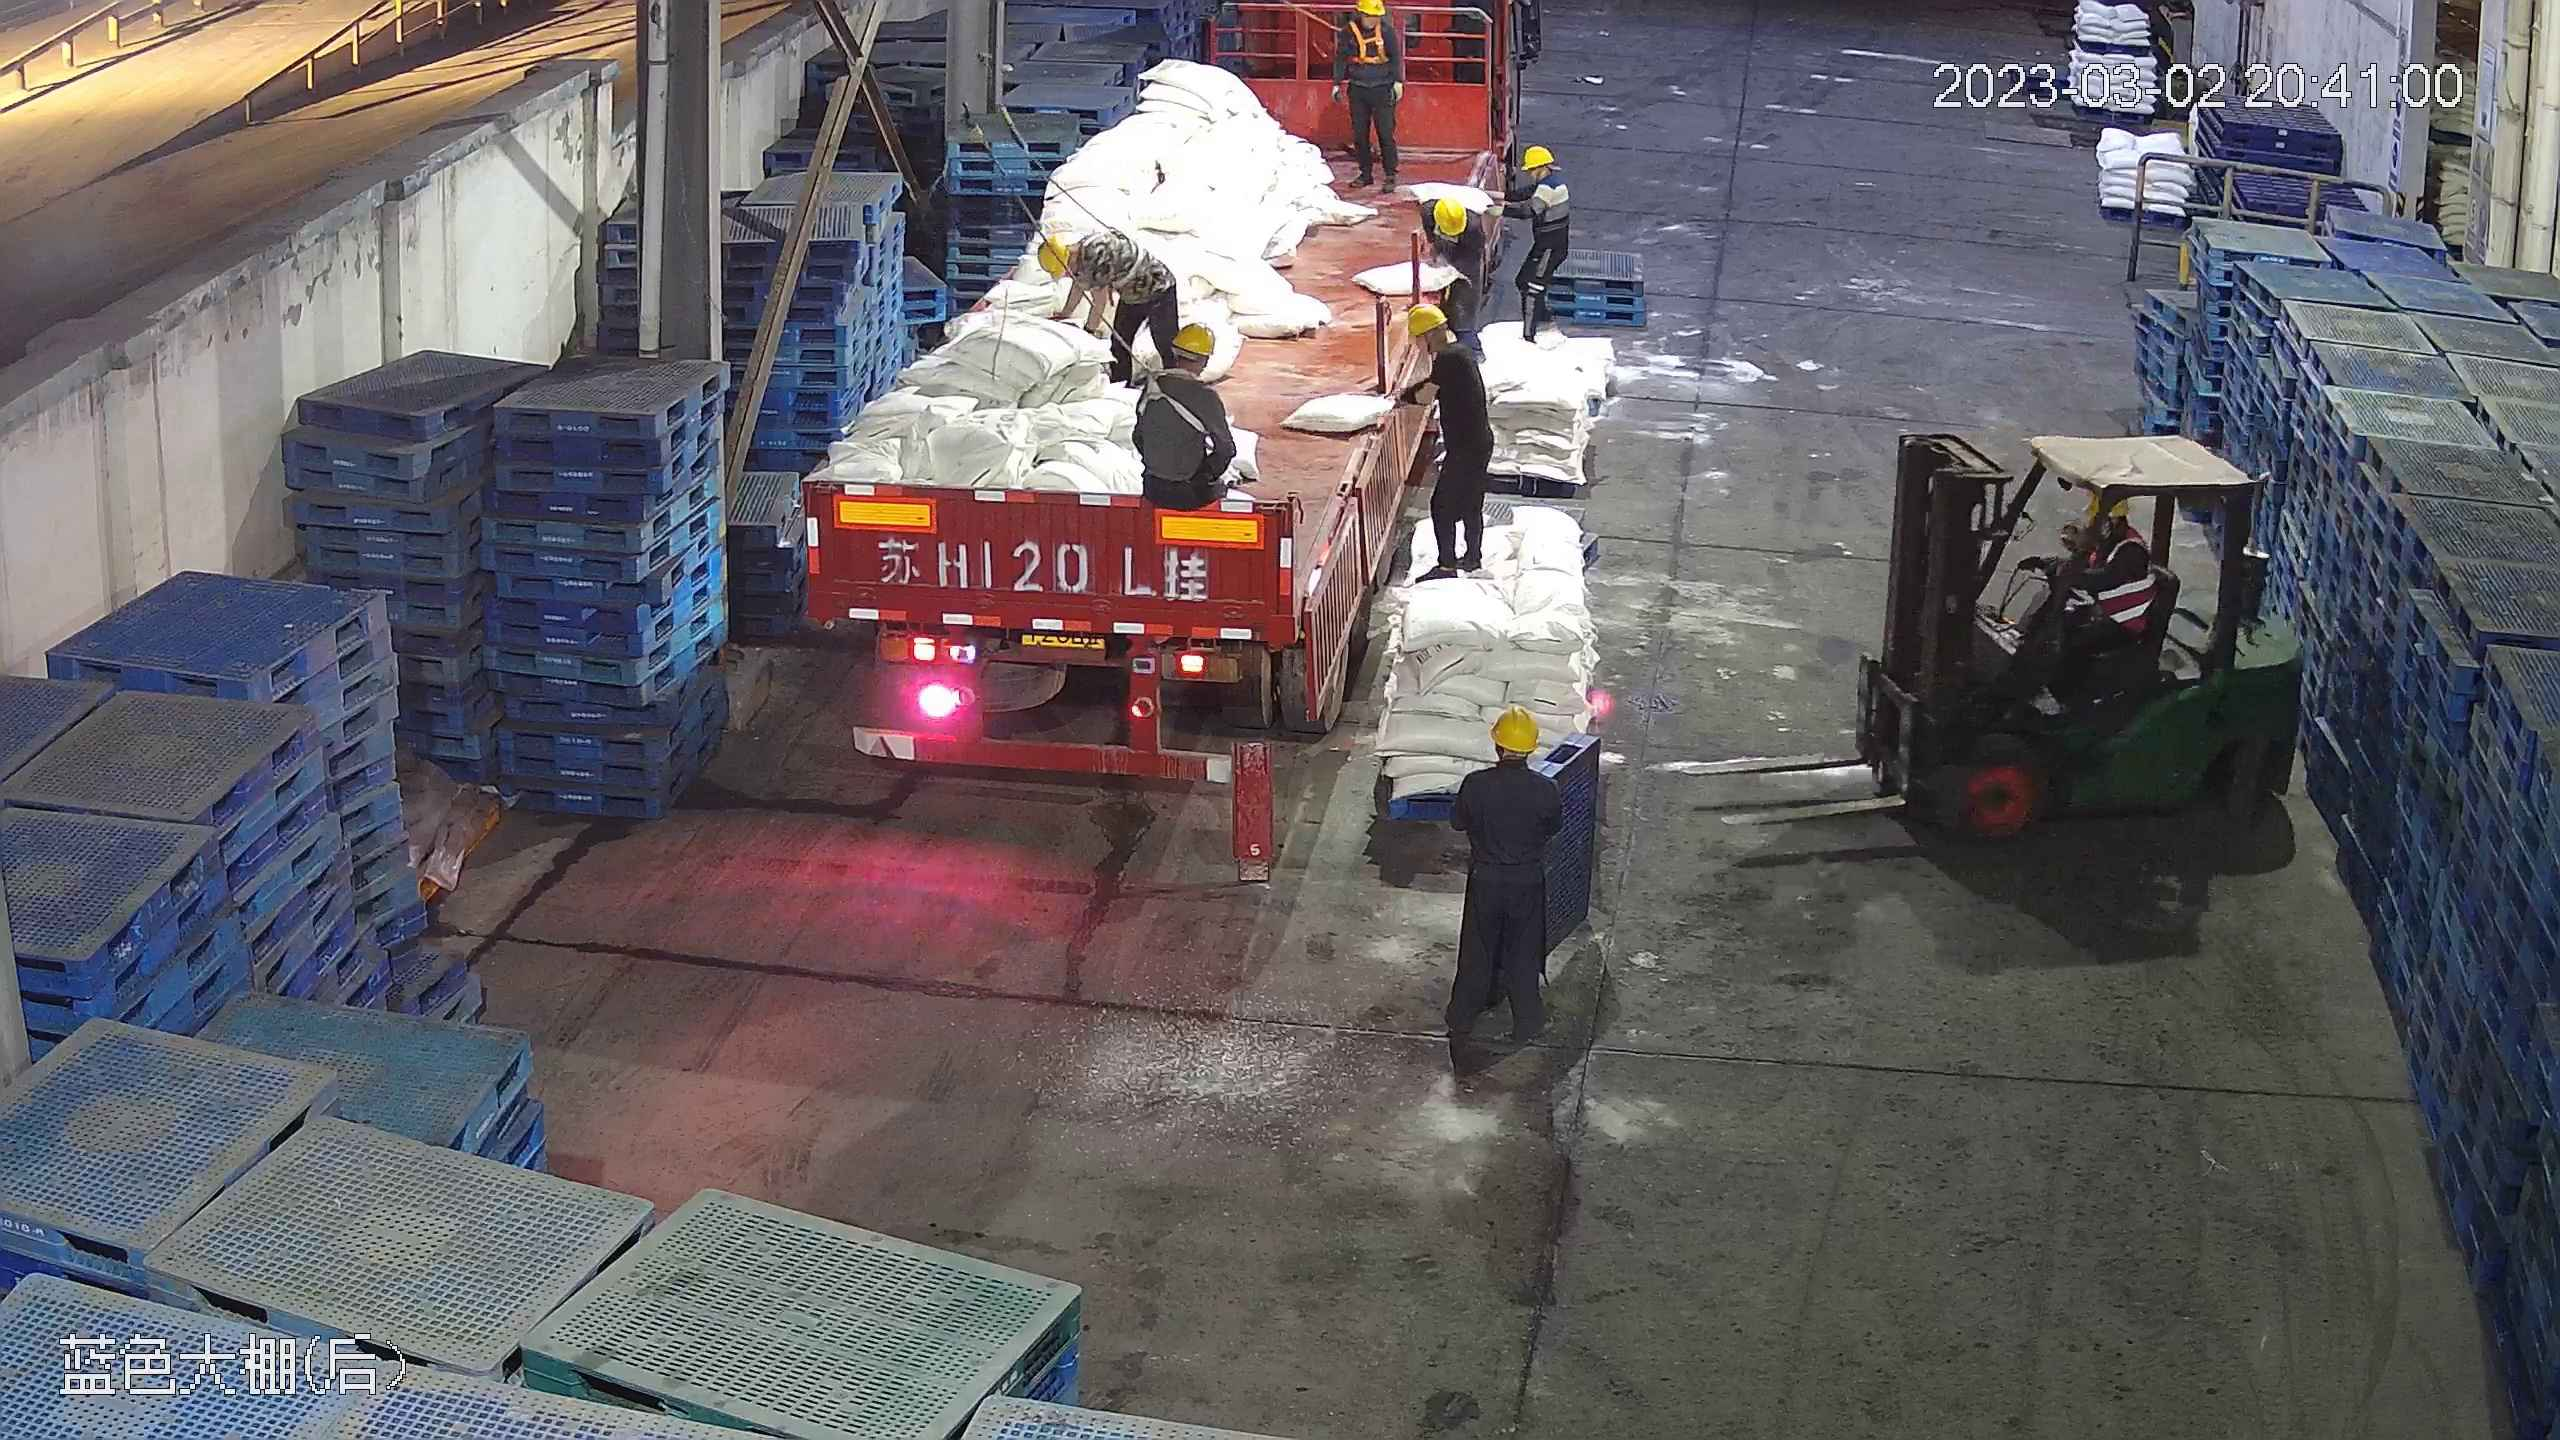belt: (1134, 361, 1206, 437), (1080, 229, 1148, 288), (1348, 16, 1393, 63)
head: (1453, 704, 1555, 821), (1142, 320, 1233, 418), (2075, 493, 2156, 578), (1403, 303, 1481, 392), (1415, 195, 1490, 263), (1041, 230, 1125, 290), (1336, 1, 1399, 51), (1514, 142, 1562, 204)
helmet: (1488, 707, 1540, 752), (1431, 195, 1471, 240), (1169, 321, 1217, 358), (1037, 233, 1072, 279), (1401, 303, 1446, 338), (1523, 145, 1554, 168), (1357, 1, 1385, 13)
people: (1440, 705, 1569, 1092), (2028, 491, 2164, 709), (1396, 300, 1491, 587), (1131, 316, 1246, 523), (1039, 227, 1184, 387), (1329, 1, 1408, 190), (1413, 191, 1498, 338), (1507, 142, 1569, 330)
truck: (794, 11, 1511, 785)
